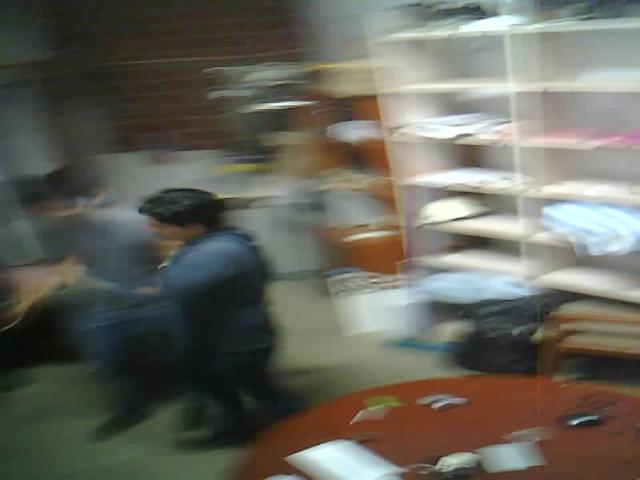person: (130, 182, 344, 467), (0, 157, 188, 447)
